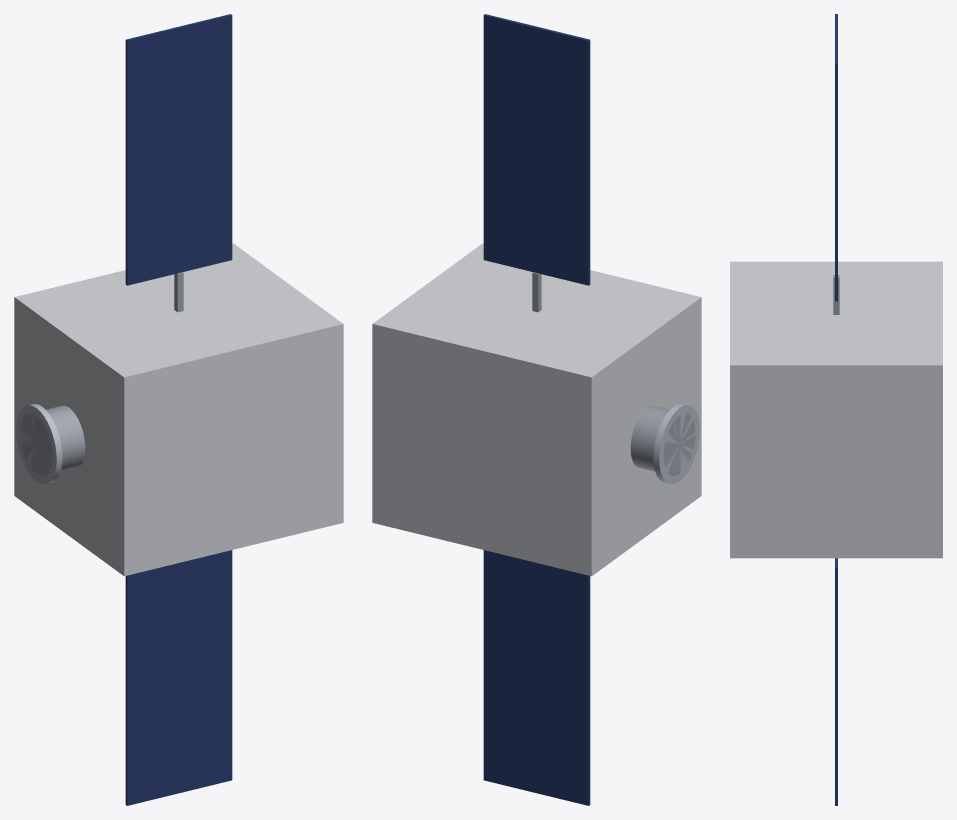
The model's file is target.obj.
The picture shows the model from 3 angles, left to right: view 1: azimuth 30°, elevation 25°; view 2: azimuth 150°, elevation 25°; view 3: azimuth 270°, elevation 25°; orthographic projection. The views are drawn at different scales.
Parts seen in each view (by area): view 1: target; view 2: target; view 3: target.
Part boxes in pixels (left/top/right/bottom): target: left=14, top=14, right=343, bottom=805; target: left=372, top=14, right=701, bottom=805; target: left=730, top=14, right=942, bottom=805.
Bounding box in the file's own units: 3.45 × 10 × 2.6.
